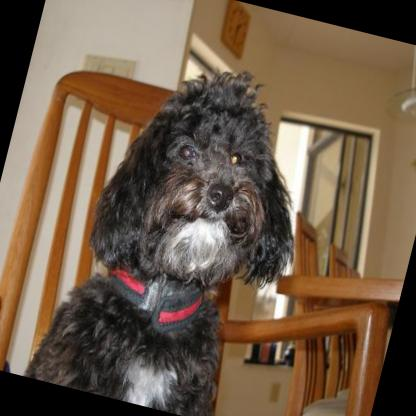toy_poodle: (20, 31, 335, 416)
